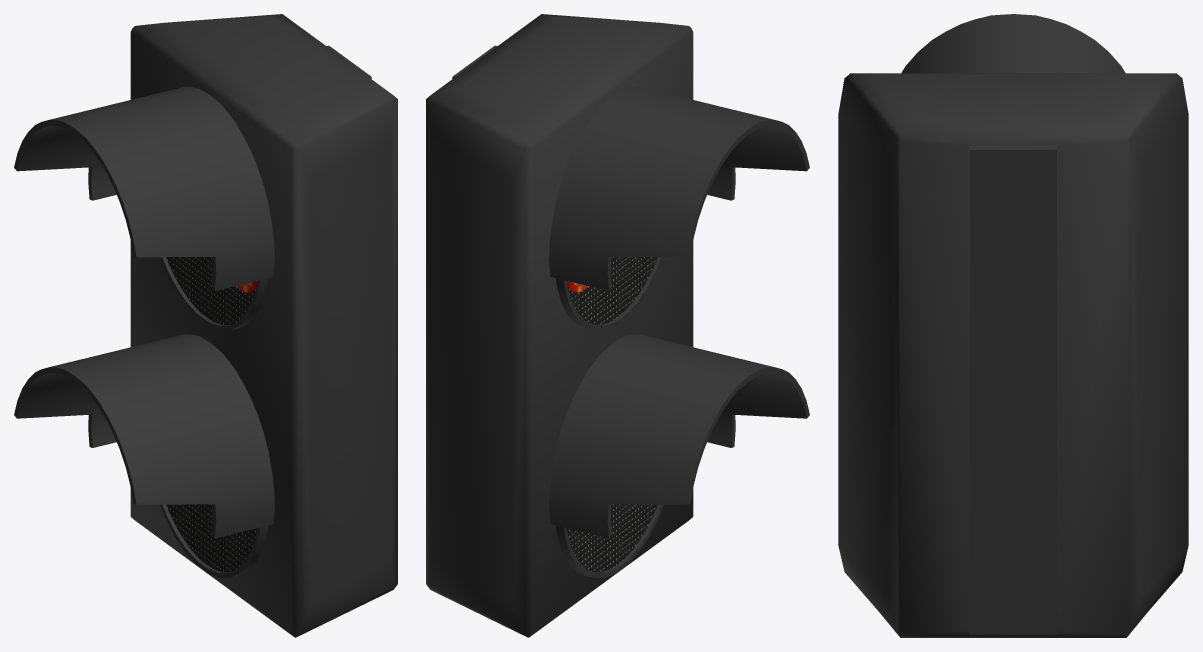
Rendered from 单车指示灯_RedLight.fbx.
3 renders of one model, left to right at view 1: azimuth 30°, elevation 25°; view 2: azimuth 150°, elevation 25°; view 3: azimuth 270°, elevation 25°, orthographic.
Parts seen in each view (by area): view 1: 单车指示灯_RedLight; view 2: 单车指示灯_RedLight; view 3: 单车指示灯_RedLight.
Boxes of the visible parts, x1,y1,x2,y2 form: 单车指示灯_RedLight: (14, 14, 397, 637); 单车指示灯_RedLight: (426, 14, 809, 637); 单车指示灯_RedLight: (838, 14, 1188, 637).
Bounding box in the file's own units: 0.6 × 1.06 × 0.65.
3 materials, 2 textured.
